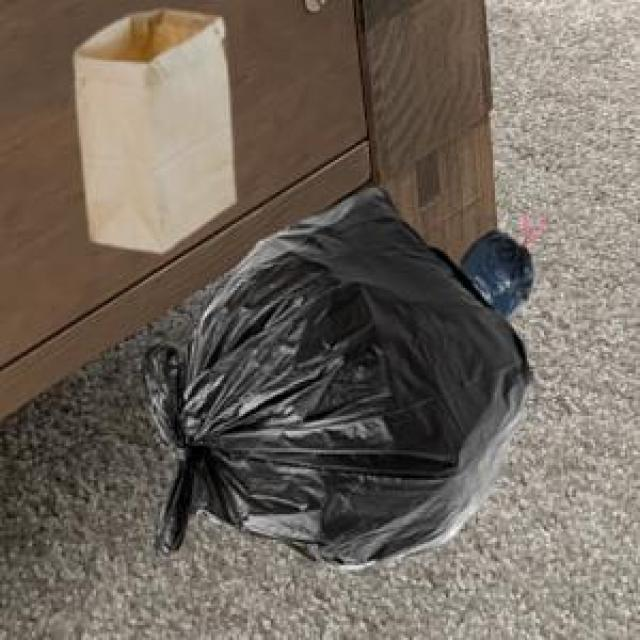miscellaneous trash: (132, 184, 529, 565), (454, 226, 527, 316)
paper: (70, 6, 230, 248)
